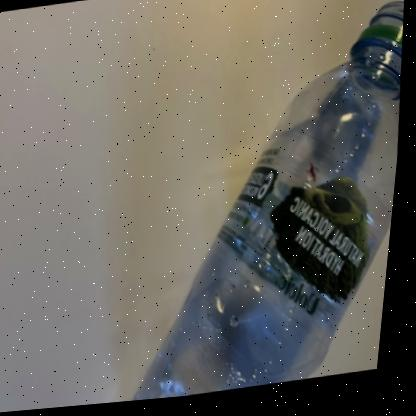Plastic: (142, 6, 405, 404)
